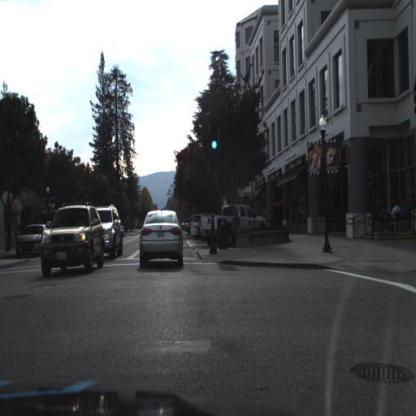car: (42, 206, 105, 278), (140, 209, 183, 271), (203, 206, 267, 242), (103, 204, 124, 260), (190, 216, 200, 237)
trafficLight-Green: (211, 127, 219, 150)
